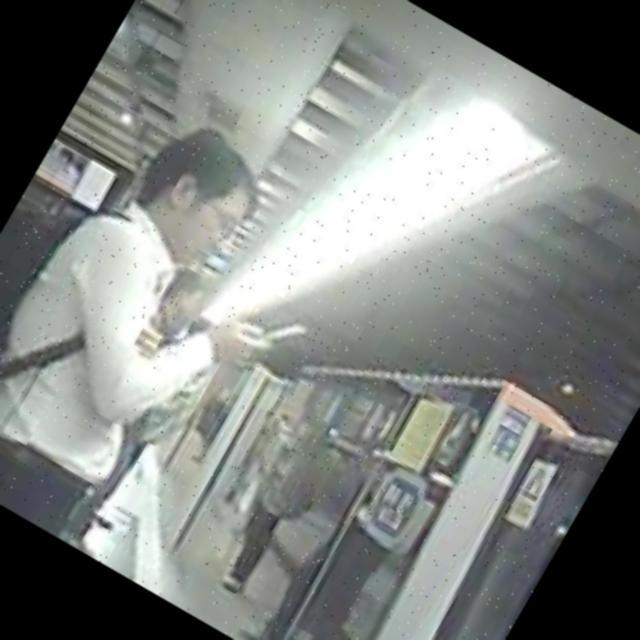person: (0, 85, 351, 582), (21, 256, 238, 554)
